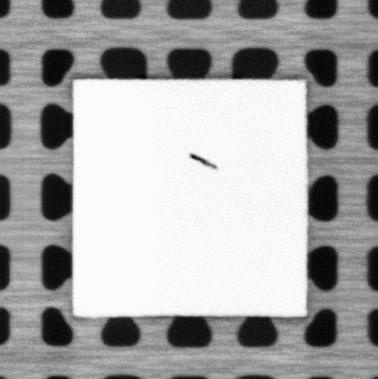DIE_INK: (187, 151, 216, 169)
